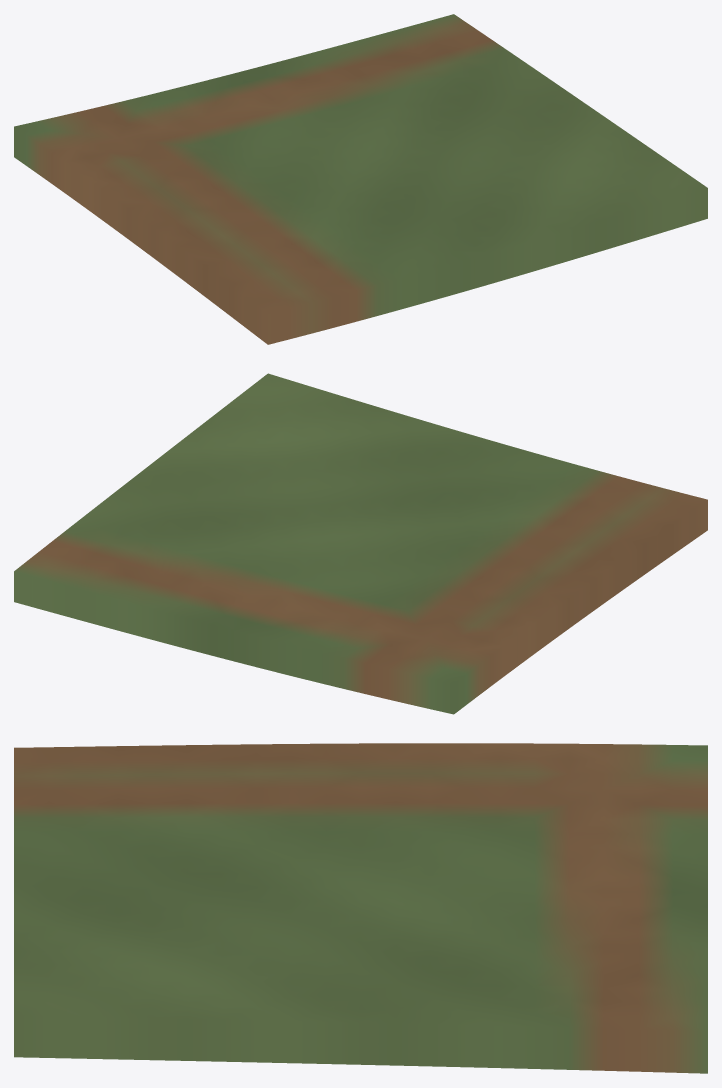
The picture shows the model from 3 angles, top to bottom: view 1: azimuth 30°, elevation 25°; view 2: azimuth 150°, elevation 25°; view 3: azimuth 270°, elevation 25°; orthographic projection. The views are drawn at different scales.
Parts seen in each view (by area): view 1: terrain; view 2: terrain; view 3: terrain.
Boxes of the visible parts, bbox=[...] form: terrain: bbox=[14, 14, 707, 344]; terrain: bbox=[14, 373, 707, 714]; terrain: bbox=[14, 743, 707, 1073].
Size of the model in its own units: 30 by 3.23 by 30.
